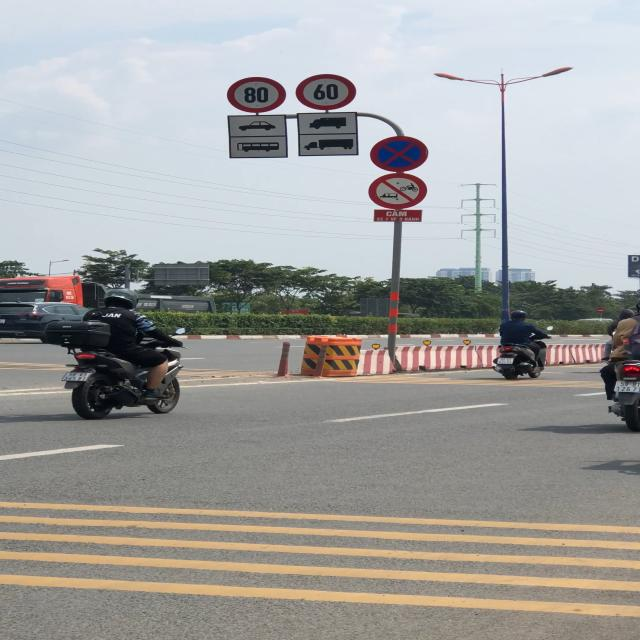Bien bao cam dung xe va do xe: (368, 134, 428, 173)
Bien bao toc do toi da cho phep: (294, 73, 355, 111), (226, 77, 289, 113)
